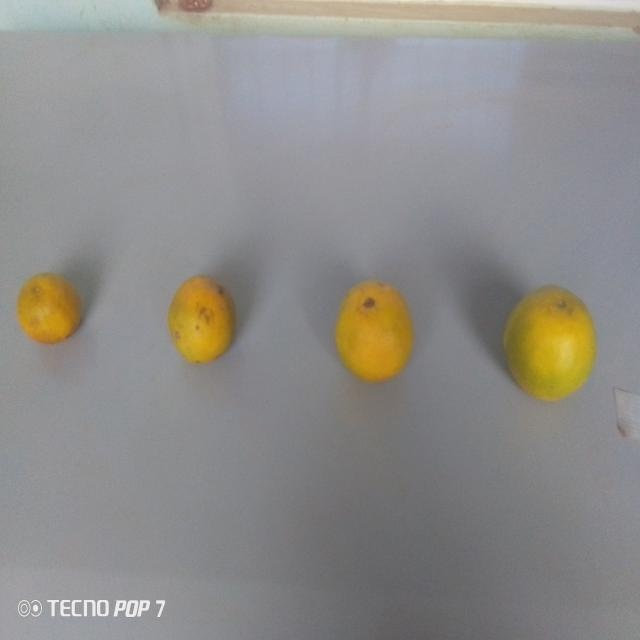agrume: (498, 281, 600, 405), (336, 277, 413, 391), (167, 267, 236, 373), (14, 269, 85, 344)
